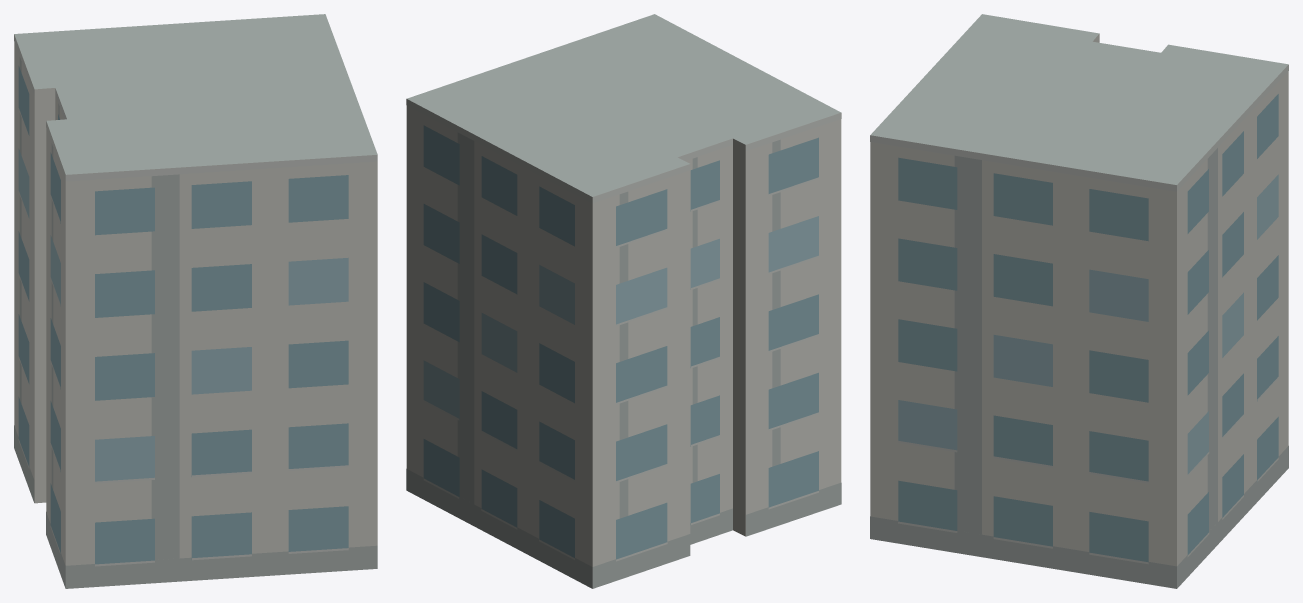
Rendered from survey-upis-32940180.glb.
3 renders of one model, left to right at view 1: azimuth 30°, elevation 25°; view 2: azimuth 150°, elevation 25°; view 3: azimuth 270°, elevation 25°, orthographic. The views are drawn at different scales.
Parts seen in each view (by area): view 1: survey-upis-32940180.tmp; view 2: survey-upis-32940180.tmp; view 3: survey-upis-32940180.tmp.
Part boxes in pixels (x1=…): survey-upis-32940180.tmp: x1=14, y1=14, x2=377, y2=588; survey-upis-32940180.tmp: x1=406, y1=14, x2=841, y2=588; survey-upis-32940180.tmp: x1=870, y1=14, x2=1288, y2=588.
Bounding box in the file's own units: 13.37 × 14.7 × 13.82.
